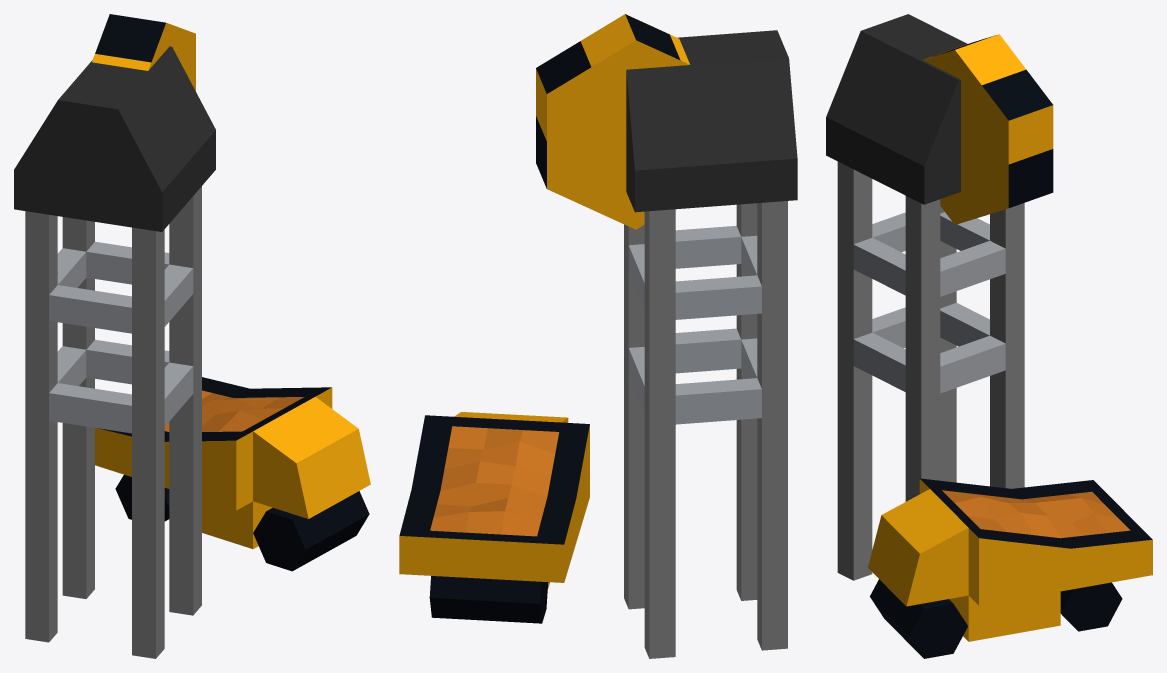
Rendered from Border_3_exploring.fbx.
3 renders of one model, left to right at view 1: azimuth 30°, elevation 25°; view 2: azimuth 150°, elevation 25°; view 3: azimuth 270°, elevation 25°, orthographic. The views are drawn at different scales.
Parts seen in each view (by area): view 1: Cube.006, Cube.007, Cylinder.003; view 2: Cube.006, Cube.007, Cylinder.003; view 3: Cube.006, Cube.007, Cylinder.003.
Part boxes in pixels (box(x1,y1,x2,y2)): Cube.006: box(14, 46, 215, 658); Cube.007: box(95, 377, 370, 571); Cylinder.003: box(92, 14, 195, 91); Cube.006: box(624, 30, 797, 658); Cube.007: box(399, 412, 589, 623); Cylinder.003: box(536, 14, 689, 229); Cube.006: box(826, 14, 1024, 580); Cube.007: box(868, 478, 1152, 658); Cylinder.003: box(922, 34, 1053, 224).
Size of the model in its own units: 97.06 by 158 by 83.88.
